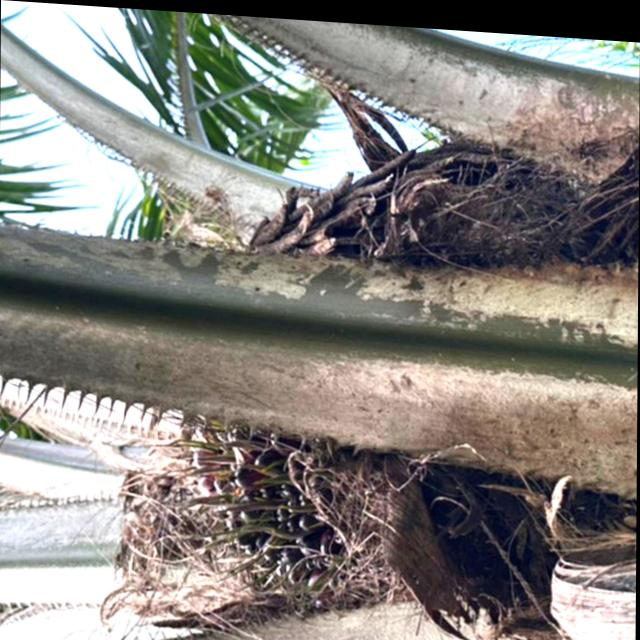ripe: (158, 377, 418, 609)
